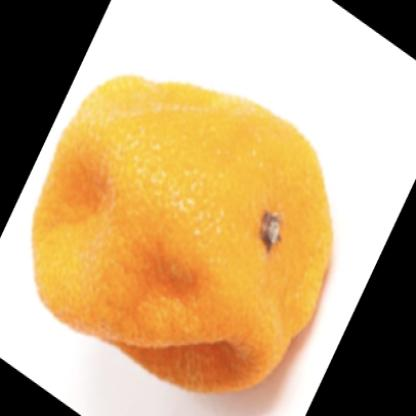rotten: (32, 74, 336, 398)
